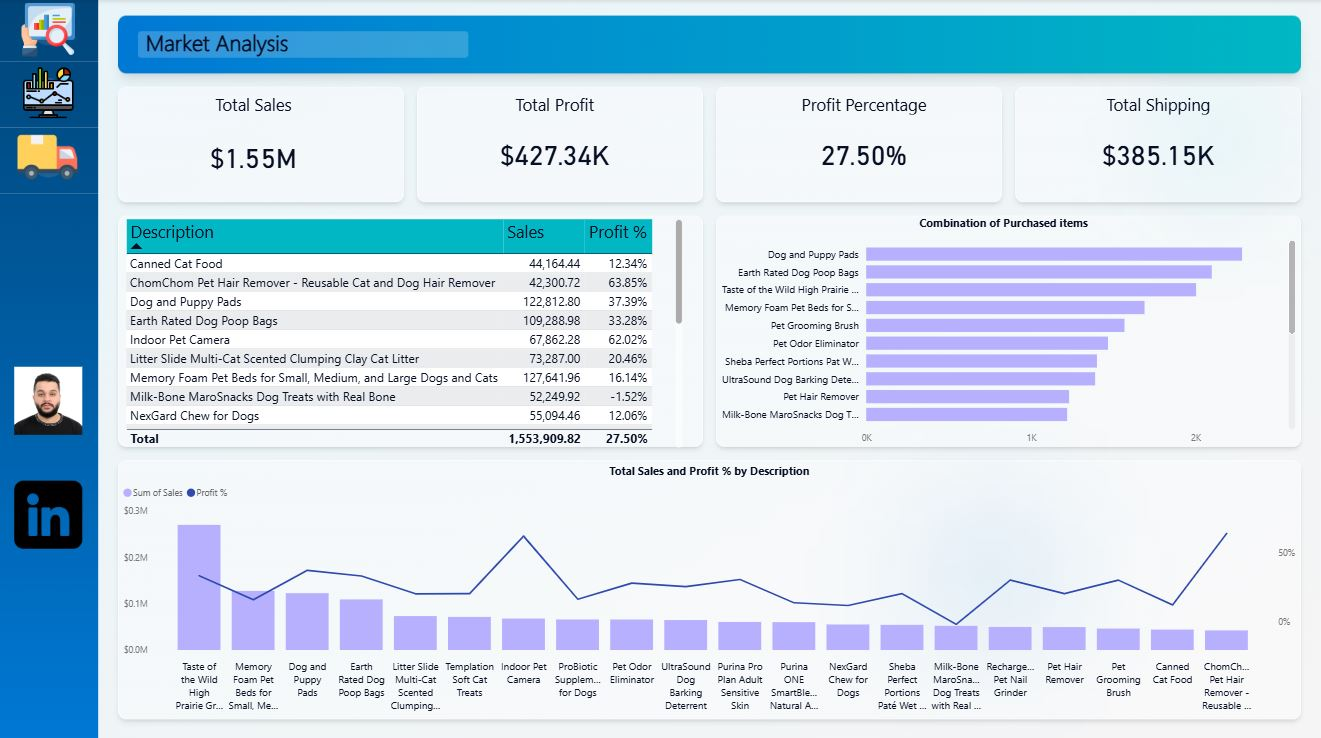

The dashboard page shown, as its layout file describes it:
{"tool":"powerbi","page":{"name":"Market Basket Analysis","canvas":[1600,900],"ordinal":1},"visuals":[{"type":"tableEx","fields":{"Values":["fact_sales.Description","Sum(fact_sales.Sales)","_Measures.Profit %"]},"box":[147.6,261.3,684.4,286.2],"z":0},{"type":"barChart","title":"Combination of Purchased items","fields":{"Category":["dim_market_basket.Description"],"Y":["CountNonNull(dim_market_basket.Description)"]},"box":[858.7,261.3,716.4,286.2],"z":1000},{"type":"lineStackedColumnComboChart","title":"Total Sales and Profit % by Description","fields":{"Category":["dim_products.Description"],"Y":["Sum(fact_sales.Sales)"],"Y2":["_Measures.Profit %"]},"box":[145.8,561.8,1429.3,309.3],"z":2000},{"type":"image","box":[0,0,119.1,74.7],"z":3000},{"type":"image","box":[0,149.3,119.1,83.6],"z":4000},{"type":"card","title":"Profit Percentage","fields":{"Values":["_Measures.Profit %"]},"box":[940.4,113.8,211.6,120.9],"z":5000},{"type":"card","title":"Total Sales","fields":{"Values":["Sum(fact_sales.Sales)"]},"box":[200.9,113.8,213.3,128],"z":6000},{"type":"card","title":"Total Profit","fields":{"Values":["Sum(fact_sales.Profit Baseline)"]},"box":[544,113.8,256,120.9],"z":7000},{"type":"card","title":"Total Shipping","fields":{"Values":["_Measures.Shipping Baseline"]},"box":[1281.8,113.8,243.6,120.9],"z":8000},{"type":"textbox","box":[172.4,28.4,300.4,76.4],"z":9000},{"type":"image","box":[14.2,574.2,92.4,101.3],"z":10000},{"type":"image","box":[0,76.4,119.1,72.9],"z":11000},{"type":"image","box":[13.9,412.2,92.2,149.6],"z":11001}]}

Visuals, with their boxes on the page's 1600x900 design canvas (x1, y1, x2, y2). These are canvas units, not pixel positions in the 1321x738 screenshot, which may show the page scaled, cropped or inside an application window:
tableEx - fact_sales.Description x Sum(fact_sales.Sales): {"x1": 148, "y1": 261, "x2": 832, "y2": 548}
"Combination of Purchased items" barChart: {"x1": 859, "y1": 261, "x2": 1575, "y2": 548}
"Total Sales and Profit % by Description" lineStackedColumnComboChart: {"x1": 146, "y1": 562, "x2": 1575, "y2": 871}
image: {"x1": 0, "y1": 0, "x2": 119, "y2": 75}
image: {"x1": 0, "y1": 149, "x2": 119, "y2": 233}
"Profit Percentage" card: {"x1": 940, "y1": 114, "x2": 1152, "y2": 235}
"Total Sales" card: {"x1": 201, "y1": 114, "x2": 414, "y2": 242}
"Total Profit" card: {"x1": 544, "y1": 114, "x2": 800, "y2": 235}
"Total Shipping" card: {"x1": 1282, "y1": 114, "x2": 1525, "y2": 235}
textbox: {"x1": 172, "y1": 28, "x2": 473, "y2": 105}
image: {"x1": 14, "y1": 574, "x2": 107, "y2": 676}
image: {"x1": 0, "y1": 76, "x2": 119, "y2": 149}
image: {"x1": 14, "y1": 412, "x2": 106, "y2": 562}
